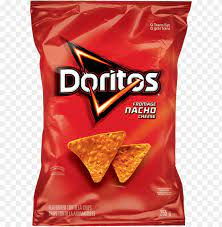Doritos: (30, 2, 188, 224)
